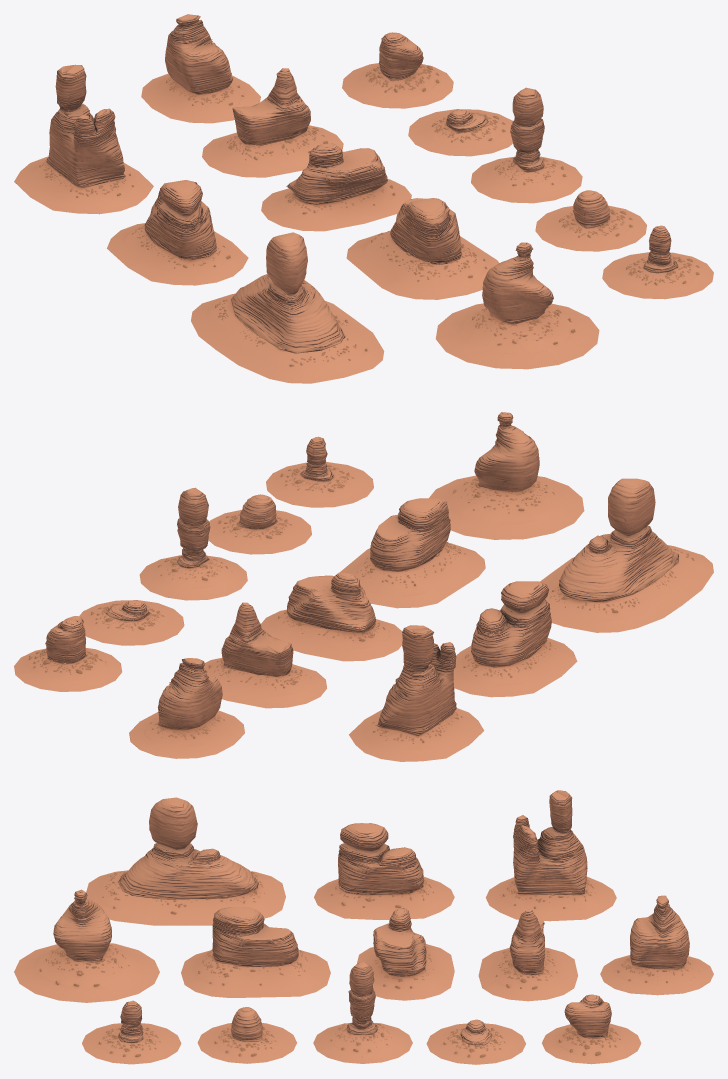
3 renders of one model, top to bottom at view 1: azimuth 30°, elevation 25°; view 2: azimuth 150°, elevation 25°; view 3: azimuth 270°, elevation 25°, orthographic. The views are drawn at different scales.
Parts seen in each view (by area): view 1: Ground_rock_9, Rock_9, Ground_rock_8, Rock_11, Ground_rock_2, Ground_rock_6, Ground_rock_11, Ground_rock_4, Rock_4, Rock_6, Ground_rock_12, Ground_rock_13 (+14 smaller); view 2: Rock_9, Ground_rock_8, Ground_rock_9, Rock_11, Ground_rock_2, Rock_6, Rock_2, Ground_rock_6, Ground_rock_11, Ground_rock_4, Rock_4, Ground_rock_12 (+14 smaller); view 3: Rock_9, Ground_rock_8, Rock_11, Ground_rock_9, Ground_rock_2, Rock_6, Rock_2, Ground_rock_12, Ground_rock_6, Ground_rock_11, Rock_10, Ground_rock_10 (+14 smaller).
Part boxes in pixels (bbox=[...]): Ground_rock_9: bbox=[191, 293, 384, 383]; Rock_9: bbox=[231, 232, 345, 353]; Ground_rock_8: bbox=[435, 303, 599, 369]; Rock_11: bbox=[45, 64, 125, 187]; Ground_rock_2: bbox=[346, 230, 499, 299]; Ground_rock_6: bbox=[107, 223, 248, 285]; Ground_rock_11: bbox=[14, 156, 153, 214]; Ground_rock_4: bbox=[261, 179, 411, 231]; Rock_4: bbox=[286, 143, 387, 204]; Rock_6: bbox=[144, 180, 216, 260]; Ground_rock_12: bbox=[202, 125, 343, 177]; Ground_rock_13: bbox=[471, 156, 582, 203]; Rock_9: bbox=[559, 478, 678, 601]; Ground_rock_8: bbox=[429, 475, 584, 539]; Ground_rock_9: bbox=[540, 545, 713, 632]; Rock_11: bbox=[377, 625, 456, 736]; Ground_rock_2: bbox=[340, 542, 485, 608]; Rock_6: bbox=[471, 581, 551, 667]; Rock_2: bbox=[370, 498, 450, 571]; Ground_rock_6: bbox=[453, 638, 577, 697]; Ground_rock_11: bbox=[349, 708, 484, 761]; Ground_rock_4: bbox=[261, 609, 402, 661]; Rock_4: bbox=[287, 572, 375, 633]; Ground_rock_12: bbox=[203, 657, 327, 708]; Rock_9: bbox=[118, 797, 258, 899]; Ground_rock_8: bbox=[14, 943, 159, 1002]; Rock_11: bbox=[513, 790, 587, 894]; Ground_rock_9: bbox=[86, 870, 285, 925]; Ground_rock_2: bbox=[181, 948, 330, 997]; Rock_6: bbox=[338, 823, 423, 894]; Rock_2: bbox=[212, 907, 298, 966]; Ground_rock_12: bbox=[478, 947, 577, 1001]; Ground_rock_6: bbox=[314, 877, 454, 919]; Ground_rock_11: bbox=[485, 876, 616, 921]; Rock_10: bbox=[630, 895, 689, 969]; Ground_rock_10: bbox=[600, 955, 713, 995].
Size of the model in its own units: 15.26 by 3.62 by 22.85.
Materials: 26 (26 with a texture image).
